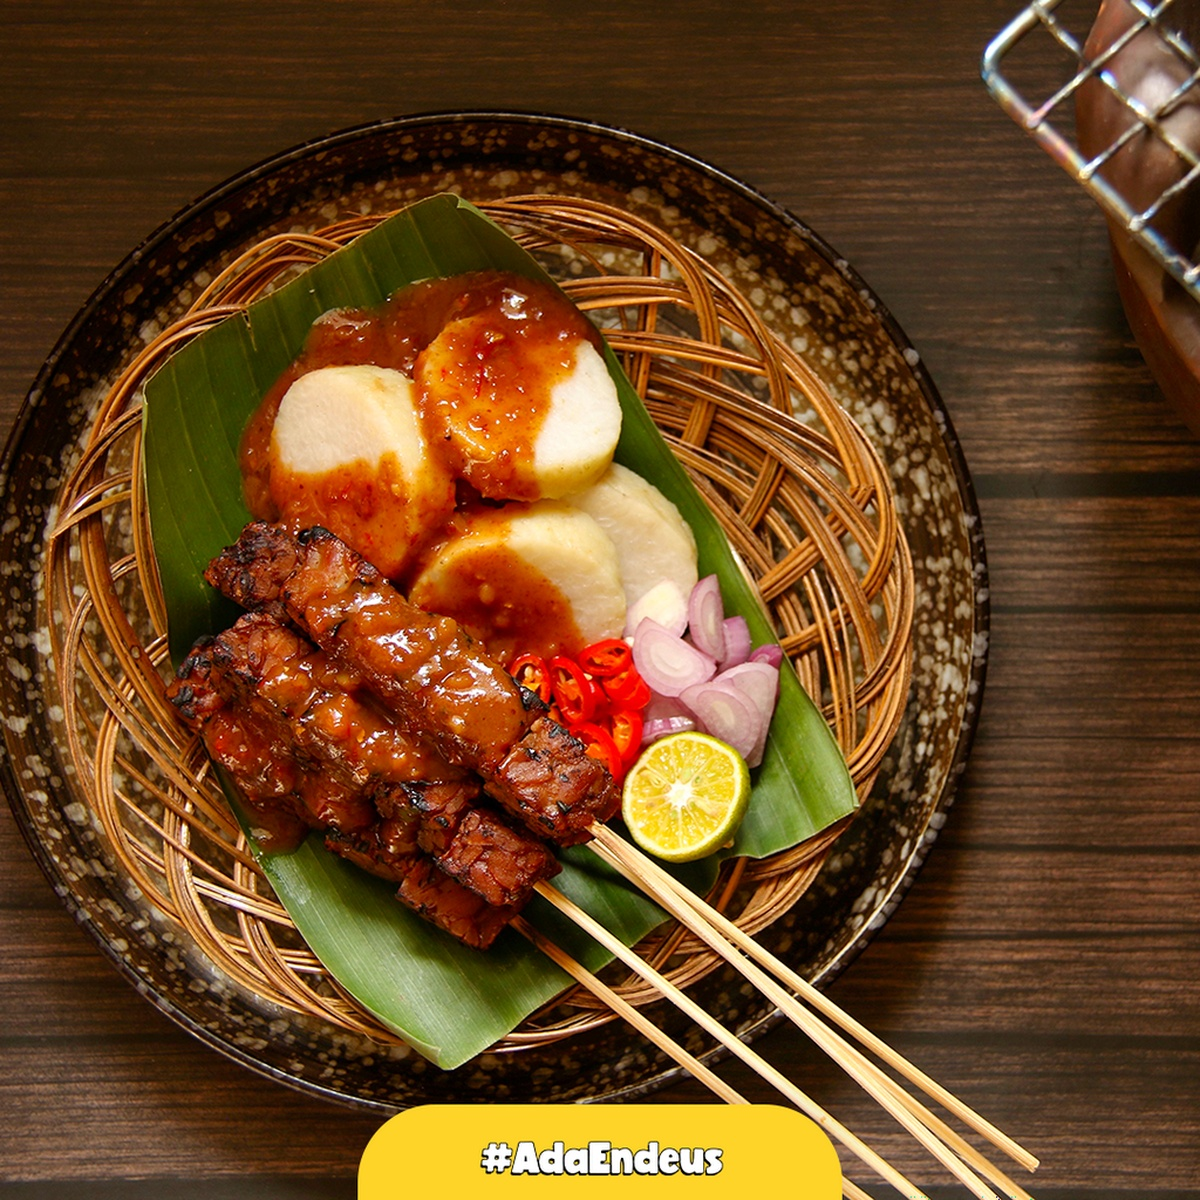sate: (168, 513, 1032, 1200)
